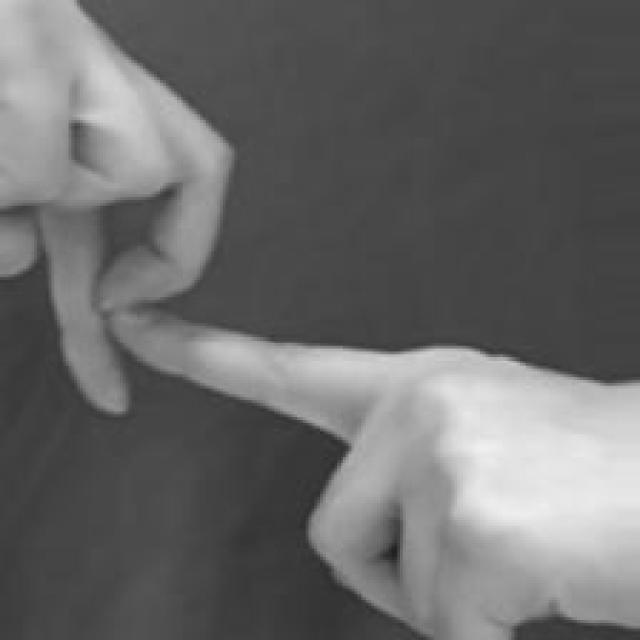R: (5, 0, 639, 640)
